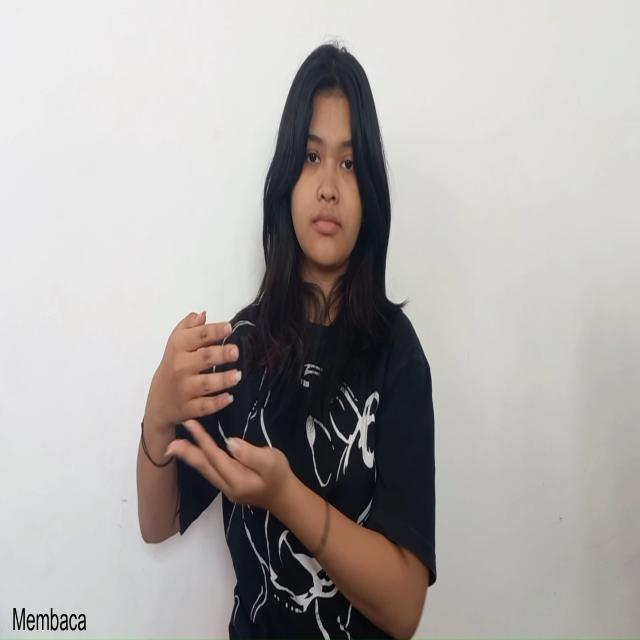Membaca -BISINDO-: (150, 310, 290, 514)
